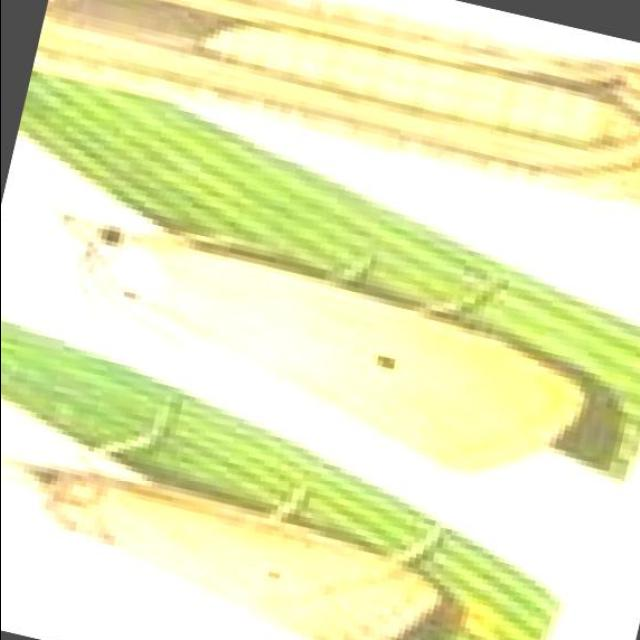stem borer: (68, 222, 580, 472), (35, 0, 640, 200), (22, 448, 450, 640)
